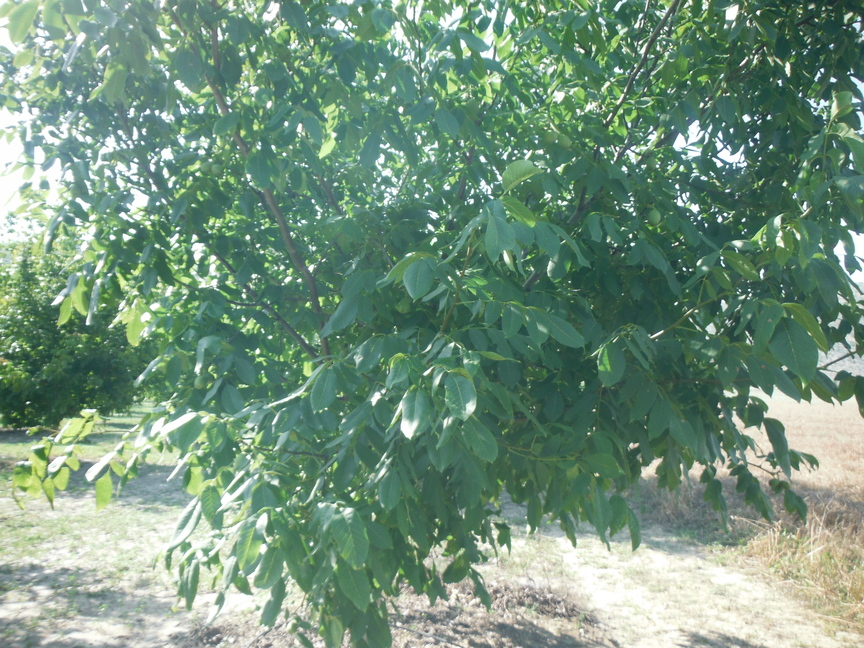walnut: (396, 294, 412, 316), (646, 207, 662, 228), (466, 94, 481, 115), (541, 127, 559, 144), (557, 132, 574, 149), (277, 45, 293, 63), (192, 374, 208, 391), (210, 163, 225, 181), (197, 159, 212, 175), (284, 619, 299, 635), (202, 370, 217, 384), (779, 477, 793, 490), (767, 476, 780, 488), (773, 484, 784, 495)
